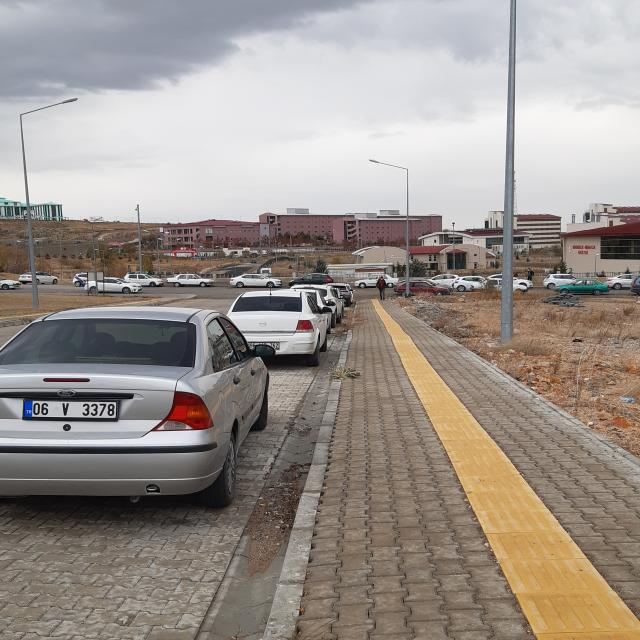license_plate: (23, 399, 118, 422)
